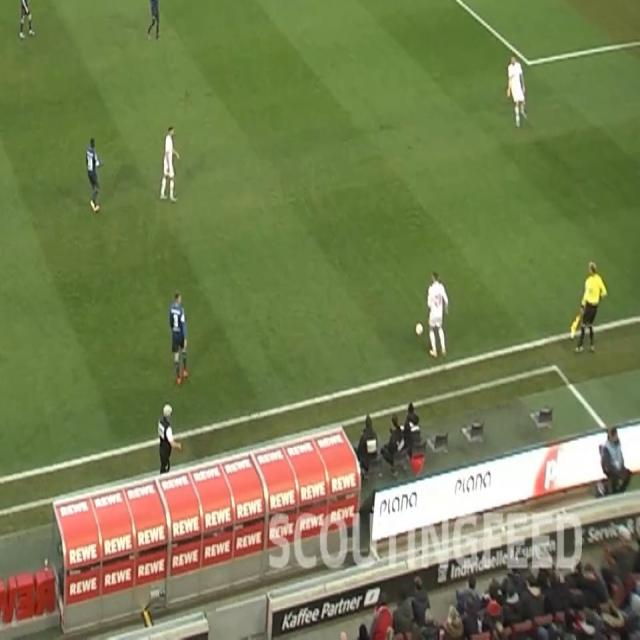ball: (414, 321, 424, 337)
